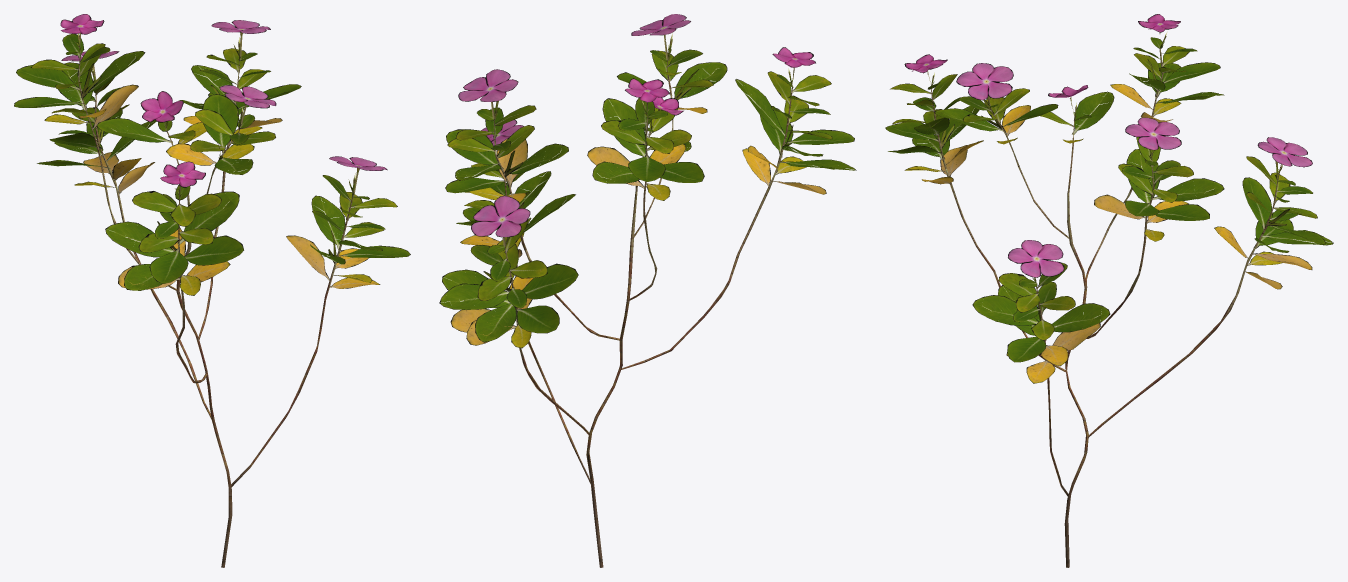
File: groundcover_00.glb
3 views of the same model, side by side, from view 1: azimuth 30°, elevation 25°; view 2: azimuth 150°, elevation 25°; view 3: azimuth 270°, elevation 25° (orthographic). The views are drawn at different scales.
Visible parts, largest first — view 1: groundcover_00; view 2: groundcover_00; view 3: groundcover_00.
Part boxes in pixels (x1=…): groundcover_00: x1=14, y1=14, x2=410, y2=567; groundcover_00: x1=439, y1=14, x2=856, y2=567; groundcover_00: x1=885, y1=14, x2=1333, y2=567.
Size of the model in its own units: 0.2608 by 0.3972 by 0.3207.
Materials: 1 (1 with a texture image).
